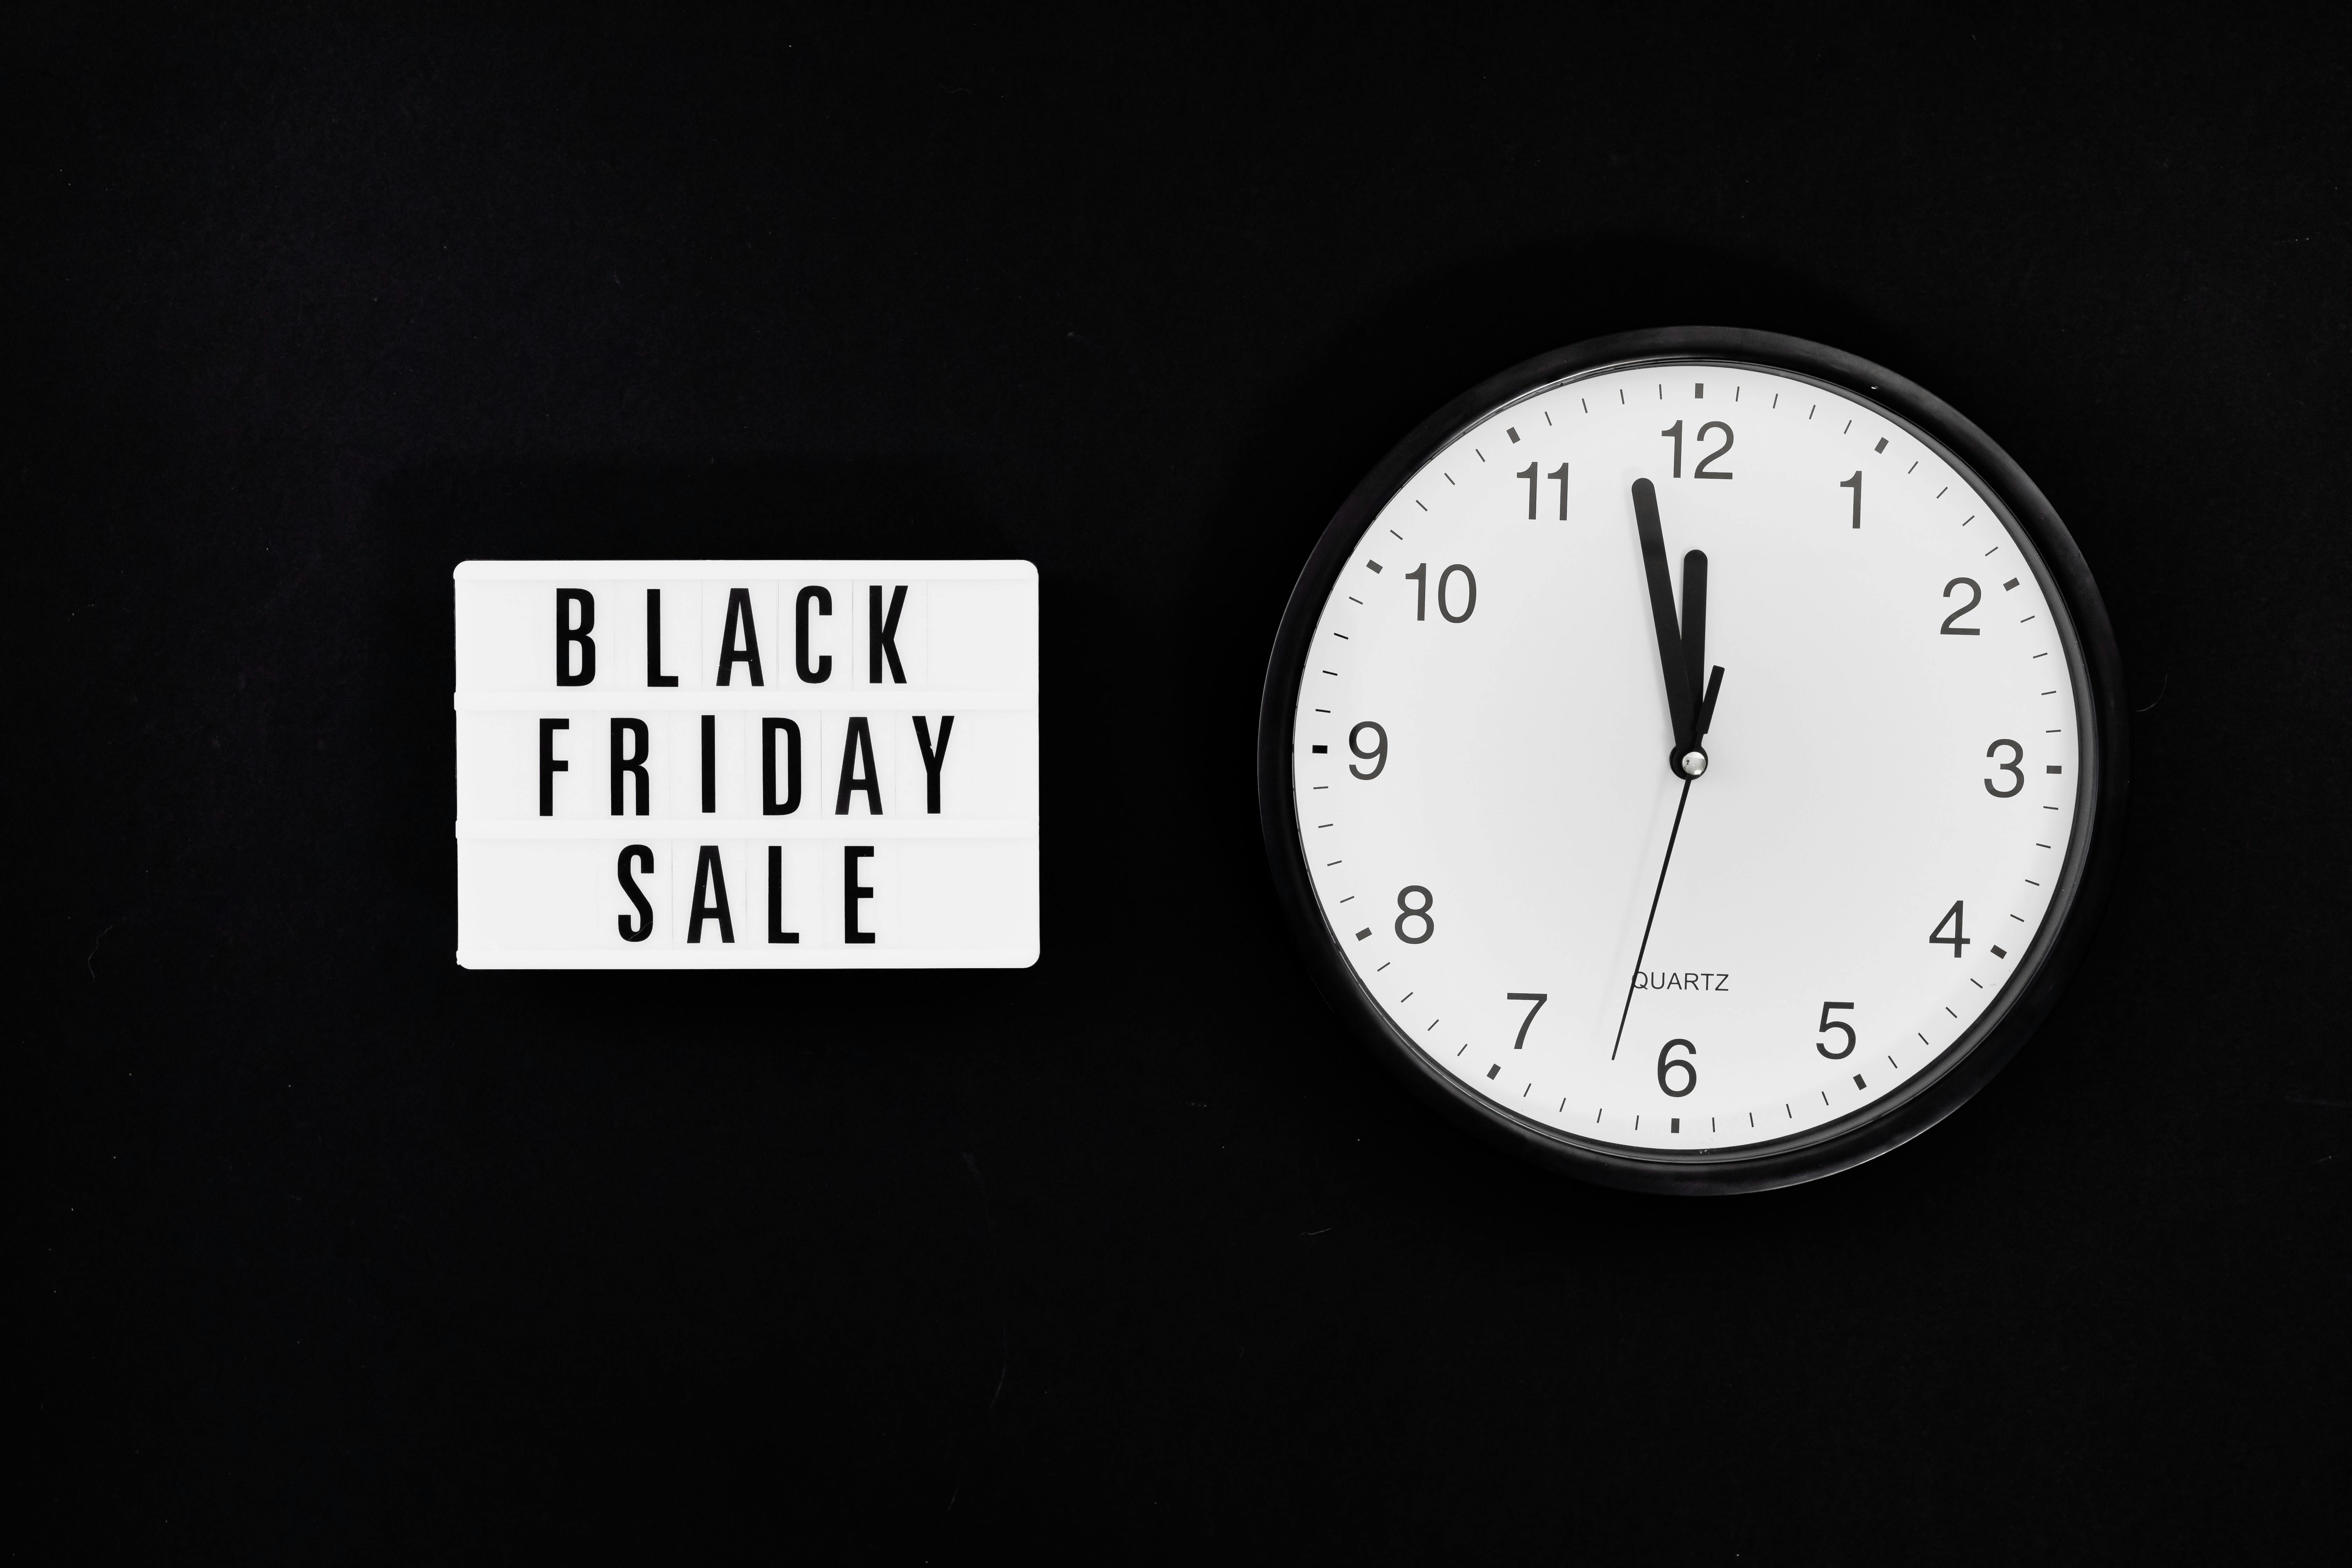clock: (1255, 348, 2159, 1220)
